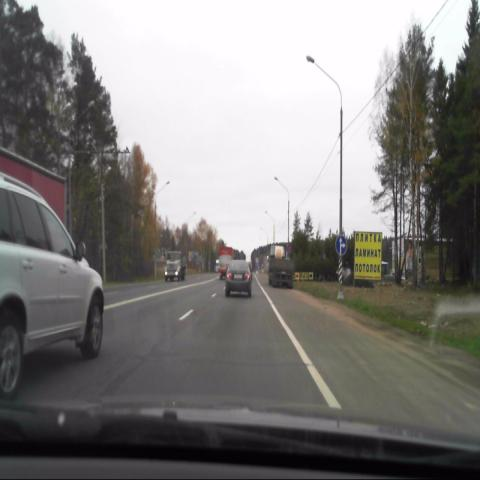4_1_4: (335, 235, 347, 257)
